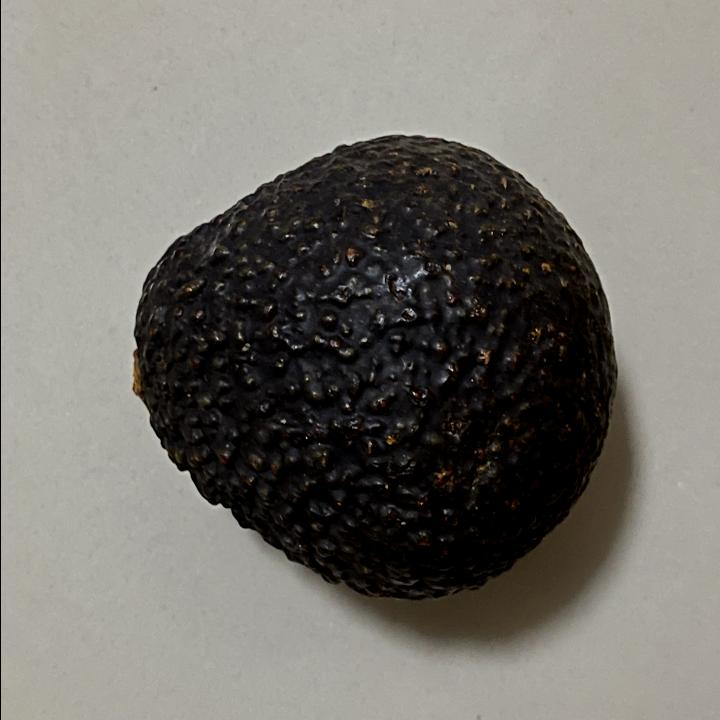Level2: (125, 124, 619, 610)
